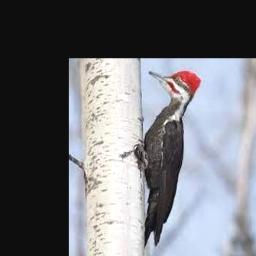Woodpecker: (137, 71, 201, 249)
